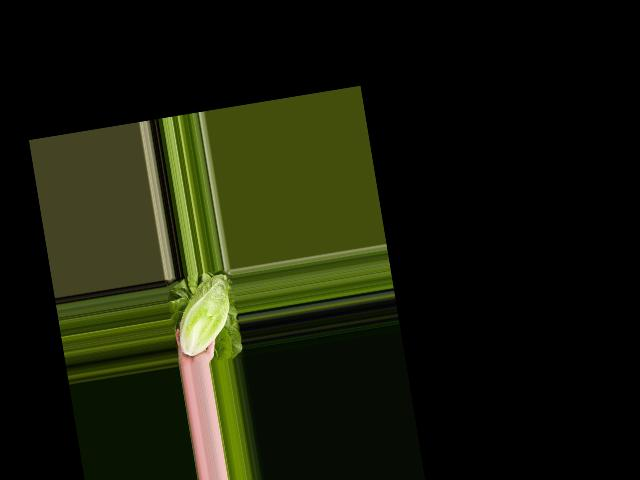lettuce: (168, 273, 239, 359)
